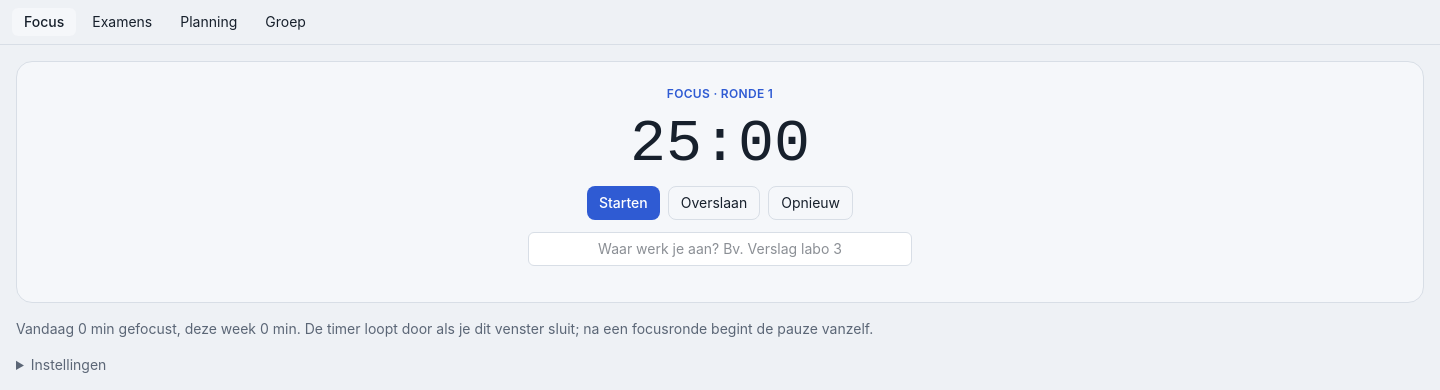
Test: Studie › runs the focus timer and logs a finished round
Check: the text "25:00" is shown, box x1=630 y1=110 x2=810 y2=178
Click the button "Starten" at (623, 203), box x1=587 y1=186 x2=660 y2=220
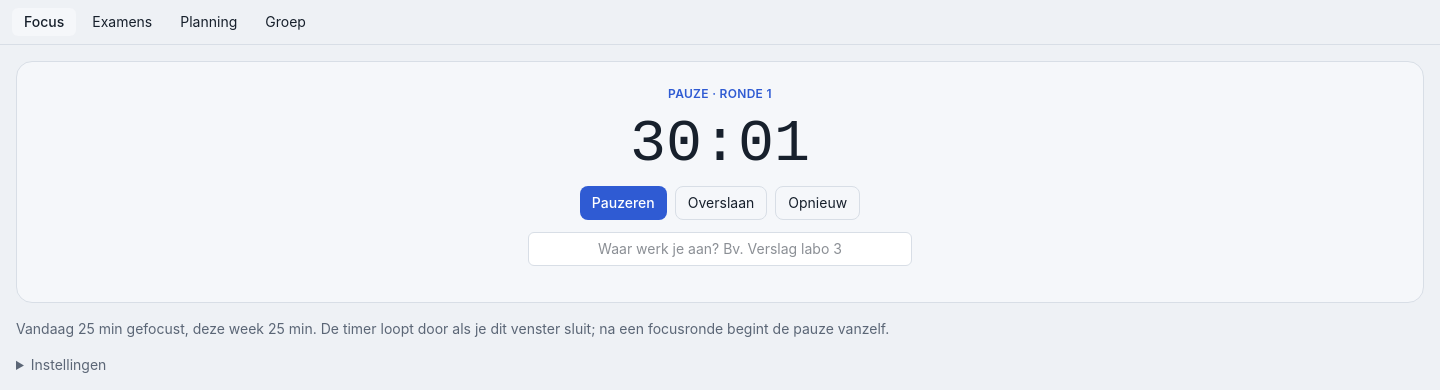
Check: the button "Pauzeren" is shown, box x1=580 y1=186 x2=667 y2=220
